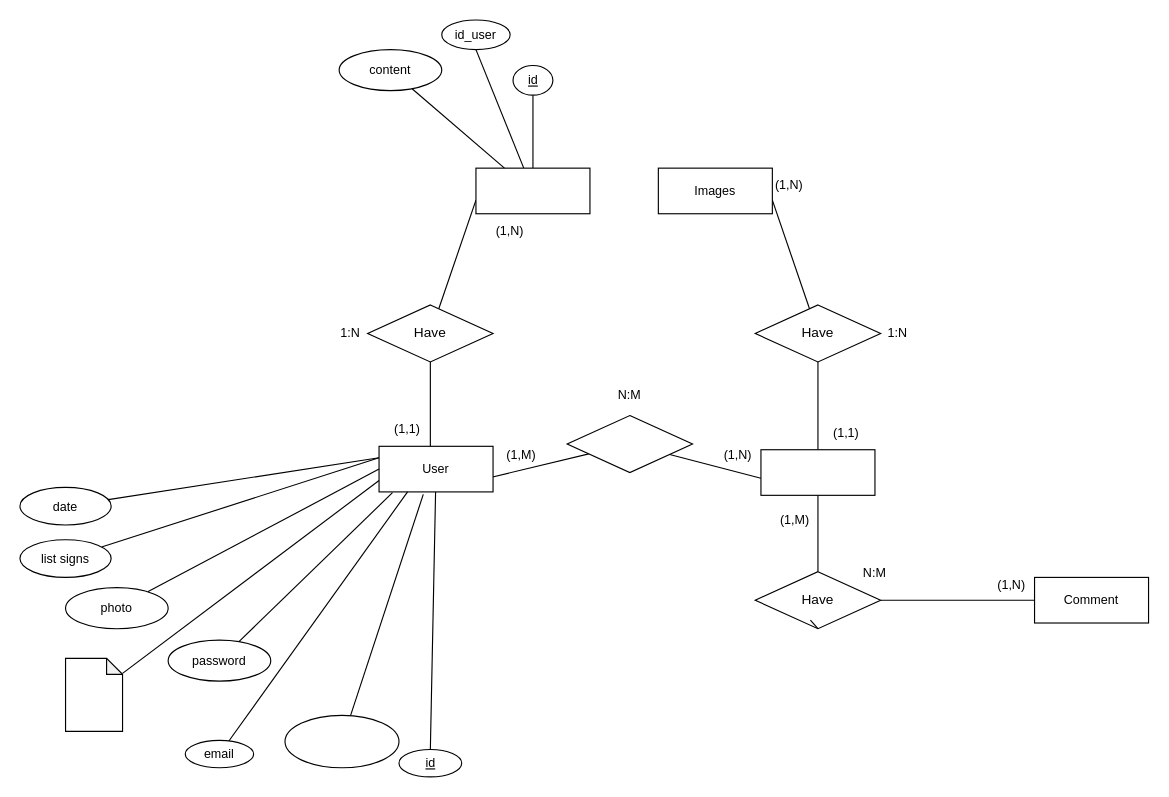
This 1169x797 diagram has some shape labels left out. Each missing label, with the centre of its shape:
"Boolean isAdmin" goes at (93,694).
"CompleteName" goes at (341,741).
"Event" goes at (817,472).
"Message" goes at (532,190).
"Signs" goes at (629,443).
